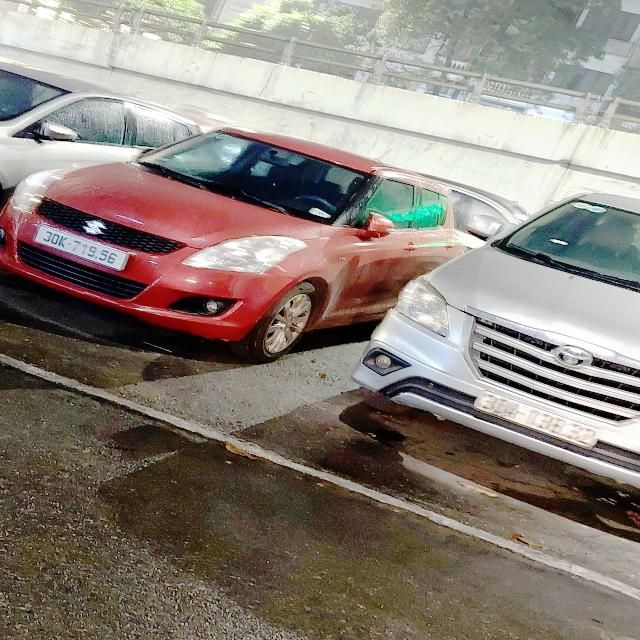license_plate: (32, 224, 133, 274)
